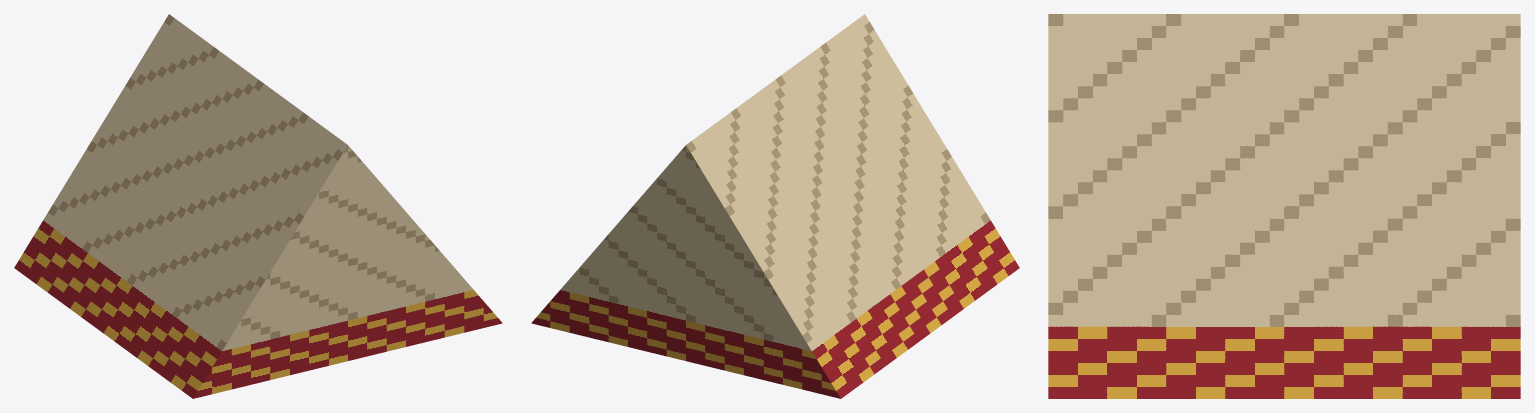
File: tent.glb
3 views of the same model, side by side, from view 1: azimuth 30°, elevation 25°; view 2: azimuth 150°, elevation 25°; view 3: azimuth 270°, elevation 25° (orthographic). The views are drawn at different scales.
Parts seen in each view (by area): view 1: tent; view 2: tent; view 3: tent.
Boxes of the visible parts, bbox=[...] form: tent: bbox=[14, 14, 502, 398]; tent: bbox=[531, 14, 1019, 398]; tent: bbox=[1048, 14, 1520, 398].
Size of the model in its own units: 2.4 by 1.6 by 2.4.
Materials: 1 (1 with a texture image).
